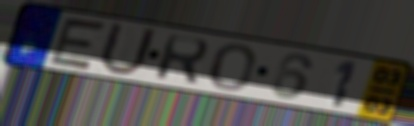1: (333, 60, 359, 111)
6: (270, 52, 316, 101)
E: (45, 15, 111, 73)
O: (207, 42, 257, 92)
R: (152, 32, 211, 87)
U: (95, 20, 160, 78)
